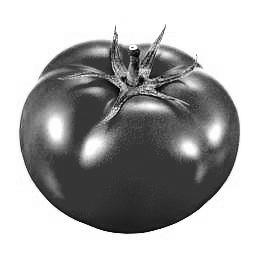bukan telur: (20, 38, 241, 232)
